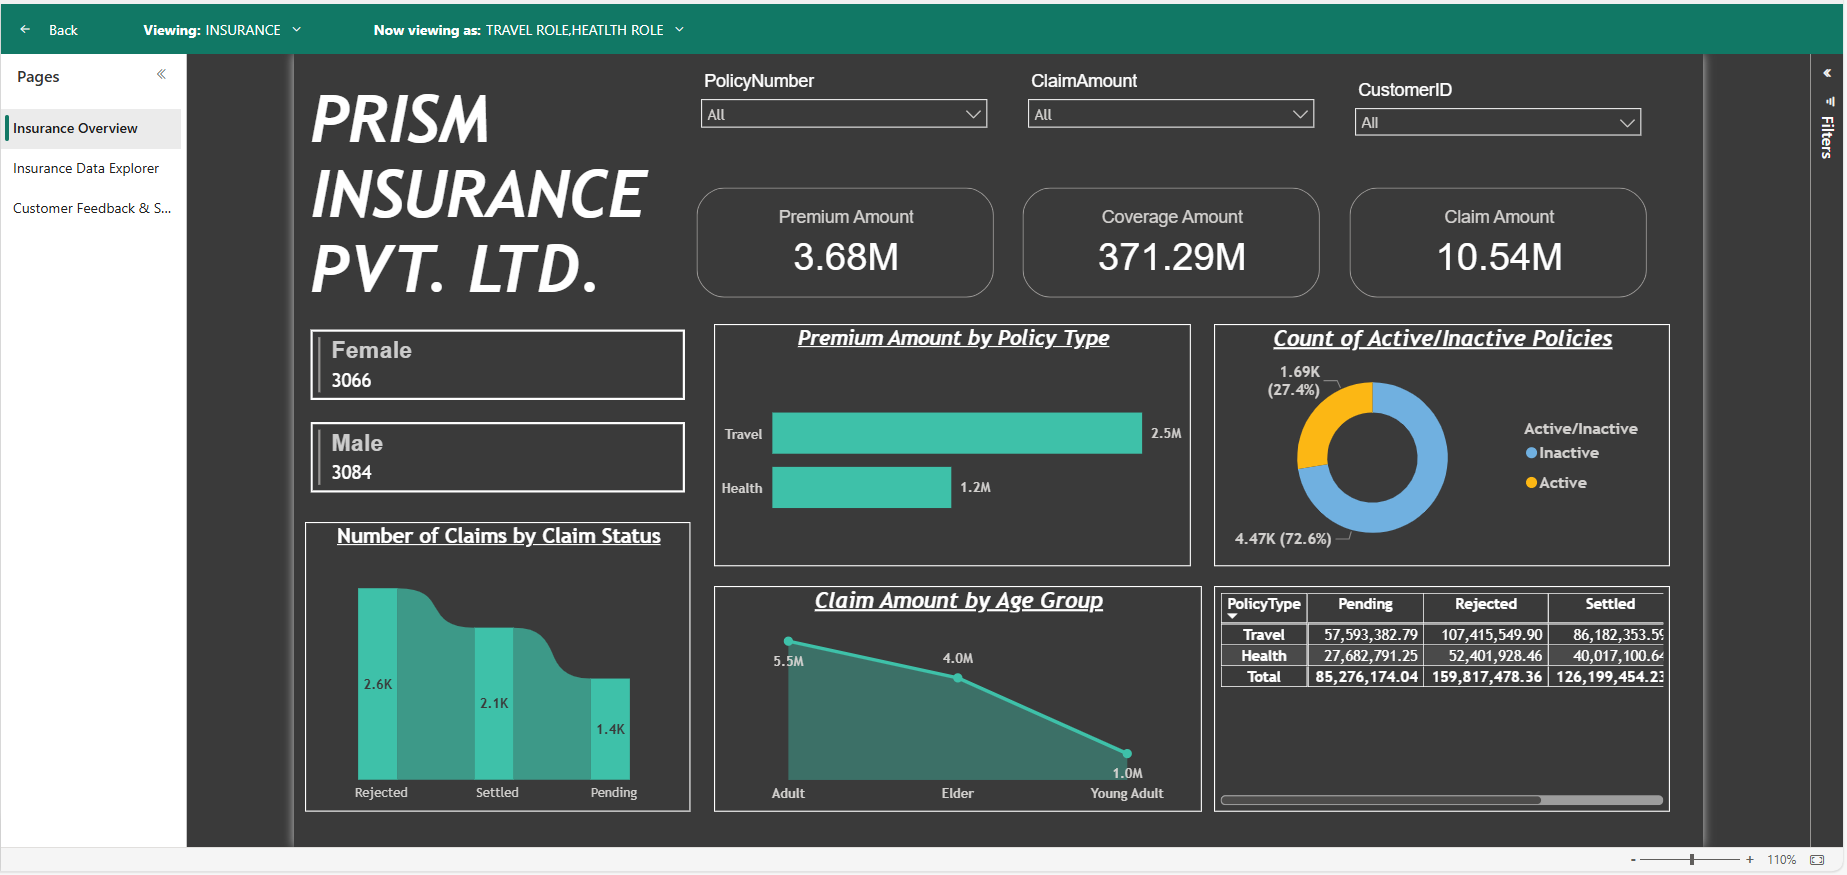

This screenshot's page, from the dashboard's own definition file:
{"tool":"powerbi","page":{"name":"Insurance Overview ","canvas":[1280,720],"ordinal":0},"visuals":[{"type":"slicer","fields":{"Values":["InsuranceData.PolicyNumber"]},"box":[359.5,10.9,279.9,83.2],"z":0},{"type":"slicer","fields":{"Values":["InsuranceData.CustomerID"]},"box":[953.1,19.3,281.1,74.8],"z":1000},{"type":"textbox","box":[10,20,321.7,316.7],"z":2000},{"type":"cardVisual","fields":{"Data":["Sum(InsuranceData.PremiumAmount)"]},"box":[360,116.7,280,110],"z":3000},{"type":"cardVisual","fields":{"Data":["Sum(InsuranceData.CoverageAmount)"]},"box":[656.7,116.7,280,110],"z":4000},{"type":"cardVisual","fields":{"Data":["Sum(InsuranceData.ClaimAmount)"]},"box":[953.3,116.7,280,110],"z":5000},{"type":"multiRowCard","fields":{"Values":["InsuranceData.Gender","CountNonNull(InsuranceData.Gender)"]},"box":[9.7,244.9,349.9,179.8],"z":6000},{"type":"ribbonChart","title":"Number of Claims by Claim Status","fields":{"Category":["InsuranceData.ClaimStatus"],"Y":["CountNonNull(InsuranceData.ClaimStatus)"]},"box":[9.7,424.7,349.9,263],"z":7000},{"type":"barChart","title":"Premium Amount by Policy Type","fields":{"Category":["InsuranceData.PolicyType"],"Y":["Sum(InsuranceData.PremiumAmount)"]},"box":[381.2,244.9,433.1,219.6],"z":8000},{"type":"lineChart","title":"Claim Amount by Age Group","fields":{"Category":["InsuranceData.Age Groups"],"Y":["Sum(InsuranceData.ClaimAmount)"]},"box":[381.2,482.6,442.8,205.1],"z":9000},{"type":"donutChart","title":"Count of Active/Inactive Policies","fields":{"Category":["InsuranceData.Active/Inactive"],"Y":["CountNonNull(InsuranceData.Active/Inactive)"]},"box":[834.9,244.9,413.8,219.6],"z":10000},{"type":"pivotTable","fields":{"Rows":["InsuranceData.PolicyType"],"Columns":["InsuranceData.ClaimStatus"],"Values":["Sum(InsuranceData.CoverageAmount)"]},"box":[835,483,414,205],"z":11000},{"type":"slicer","fields":{"Values":["InsuranceData.ClaimAmount"]},"box":[656.3,10.9,279.9,83.2],"z":13000}]}

Visuals, with their boxes on the page's 1280x720 design canvas (x1, y1, x2, y2). These are canvas units, not pixel positions in the 1847x875 screenshot, which may show the page scaled, cropped or inside an application window:
slicer - InsuranceData.PolicyNumber: {"x1": 360, "y1": 11, "x2": 639, "y2": 94}
slicer - InsuranceData.CustomerID: {"x1": 953, "y1": 19, "x2": 1234, "y2": 94}
textbox: {"x1": 10, "y1": 20, "x2": 332, "y2": 337}
cardVisual - Sum(InsuranceData.PremiumAmount): {"x1": 360, "y1": 117, "x2": 640, "y2": 227}
cardVisual - Sum(InsuranceData.CoverageAmount): {"x1": 657, "y1": 117, "x2": 937, "y2": 227}
cardVisual - Sum(InsuranceData.ClaimAmount): {"x1": 953, "y1": 117, "x2": 1233, "y2": 227}
multiRowCard - InsuranceData.Gender x CountNonNull(InsuranceData.Gender): {"x1": 10, "y1": 245, "x2": 360, "y2": 425}
"Number of Claims by Claim Status" ribbonChart: {"x1": 10, "y1": 425, "x2": 360, "y2": 688}
"Premium Amount by Policy Type" barChart: {"x1": 381, "y1": 245, "x2": 814, "y2": 464}
"Claim Amount by Age Group" lineChart: {"x1": 381, "y1": 483, "x2": 824, "y2": 688}
"Count of Active/Inactive Policies" donutChart: {"x1": 835, "y1": 245, "x2": 1249, "y2": 464}
pivotTable - InsuranceData.PolicyType x InsuranceData.ClaimStatus: {"x1": 835, "y1": 483, "x2": 1249, "y2": 688}
slicer - InsuranceData.ClaimAmount: {"x1": 656, "y1": 11, "x2": 936, "y2": 94}
